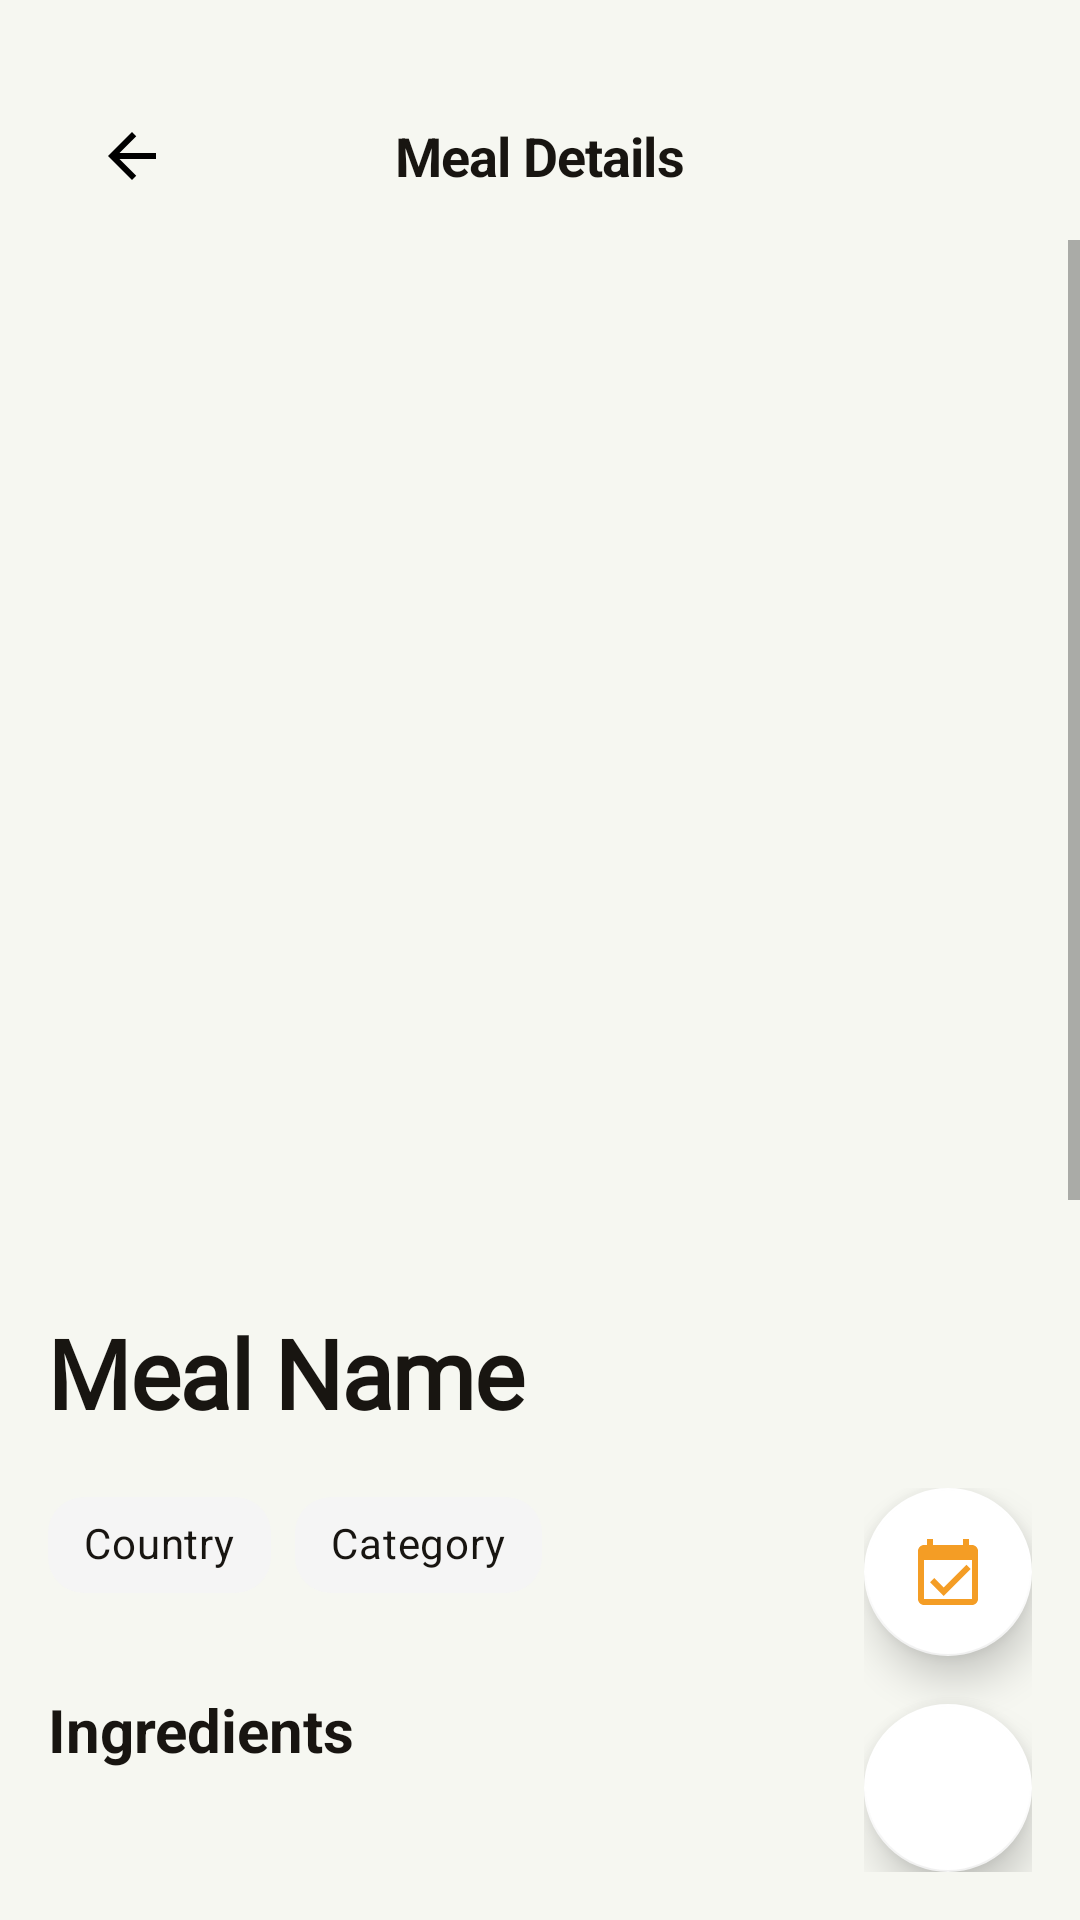

Where to tap for icons on this 1080×1920 app screen, as [x,y]:
calendar: [948,1572]
